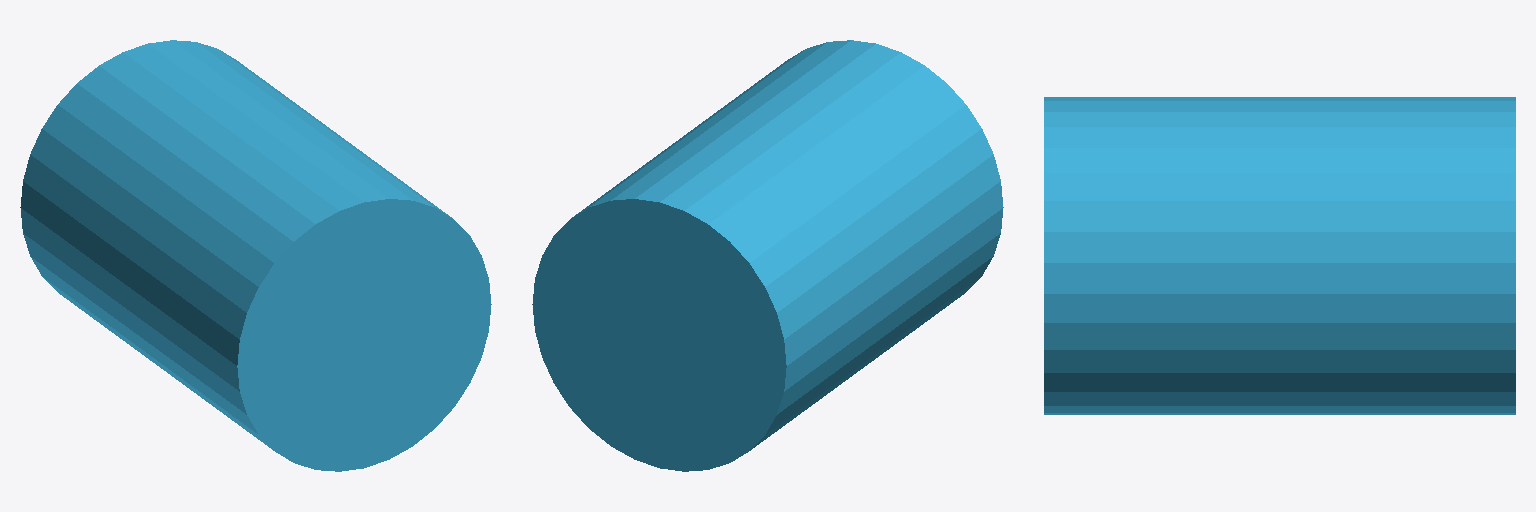
URDF robot description (cube):
<?xml version="1.0"?>
 <robot name="cube">
   <material name="purple">
     <color rgba="0.57647059 0.43921569 0.85882353 1"/>
   </material>
   <material name="yellow">
     <color rgba="1.0 1.0 0.0 1"/>
   </material>
   <material name="blue">
     <color rgba="0.3 0.73137 0.888 1"/>
   </material>
   <link name="base_link">
     <visual>
       <geometry>
         <!-- <cylinder length="0.1000" radius="0.033829689025878906"/> -->
         <cylinder length="0.1000" radius="0.033829689025878906"/>
       </geometry>
       <material name="blue"/>
       <origin xyz="0 0 0" rpy="1.5707963 0 0"/>
     </visual>
     <inertial>
       <mass value="0"/>
       <inertia ixx="1.0" ixy="0.0" ixz="0.0" iyy="1.0" iyz="0.0" izz="1.0"/>
     </inertial>
     
   </link>
 </robot>

--- Facts derived from the render (not from the file) ---
3 views of the same robot in one strip: view 1: azimuth 30°, elevation 25°; view 2: azimuth 150°, elevation 25°; view 3: azimuth 270°, elevation 25° (orthographic).
Robot: cube — 1 links, 0 joints (none); root link base_link; default pose: every joint at zero.
Visible links, largest first — view 1: base_link; view 2: base_link; view 3: base_link.
Boxes of the visible links, x1=… form: base_link: x1=20, y1=40, x2=491, y2=471; base_link: x1=532, y1=40, x2=1003, y2=471; base_link: x1=1044, y1=97, x2=1515, y2=414.
Size in the robot's own frame: 0.0677 by 0.1 by 0.0677 metres.
Geometry: primitives only (box / cylinder / sphere), no mesh files.